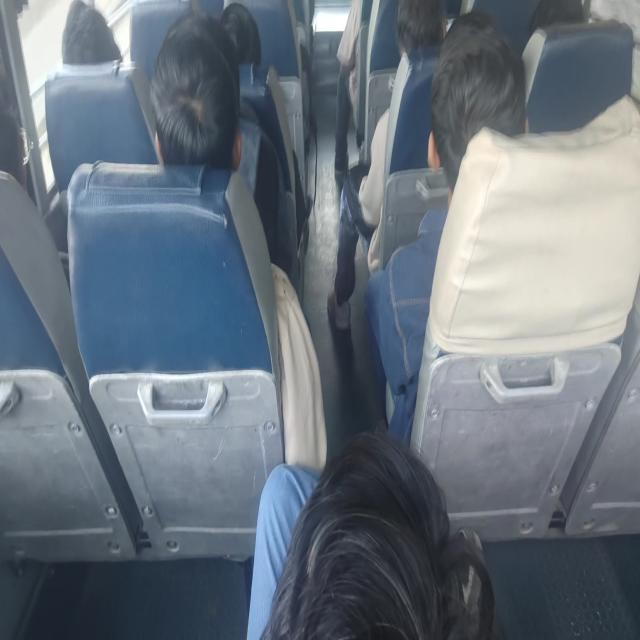person: (149, 10, 327, 469), (364, 10, 529, 442), (246, 430, 494, 638), (326, 0, 447, 331), (149, 12, 243, 170), (333, 0, 362, 186), (61, 0, 122, 65), (220, 2, 262, 65)
